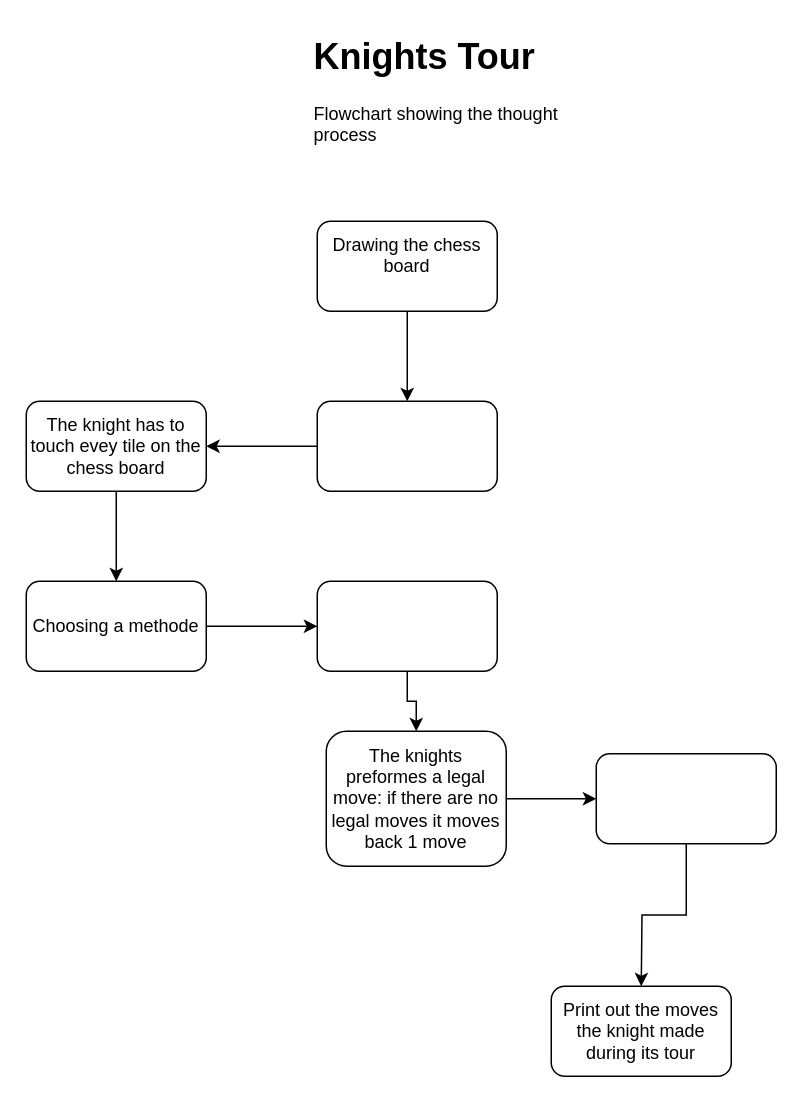
The diagram is 803 pixels wide and 1103 high, and some of its shapes have lost their labels. Each missing label, with the box of its shape:
Backtracking: (316, 580, 497, 671)
Identifying the algorithem to solve the problem: (316, 400, 497, 491)
The code runs though the possible moves: (595, 752, 776, 844)
